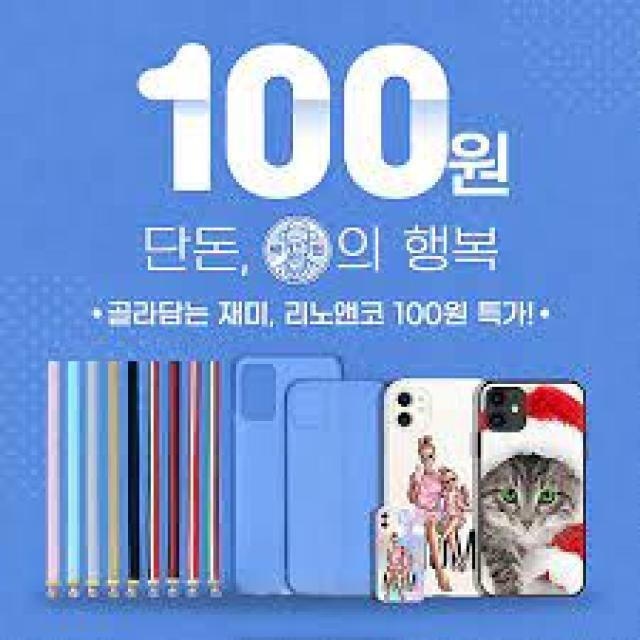cellphone: (226, 354, 349, 611), (474, 372, 592, 603), (375, 363, 478, 604), (284, 375, 385, 607), (371, 503, 435, 609)
